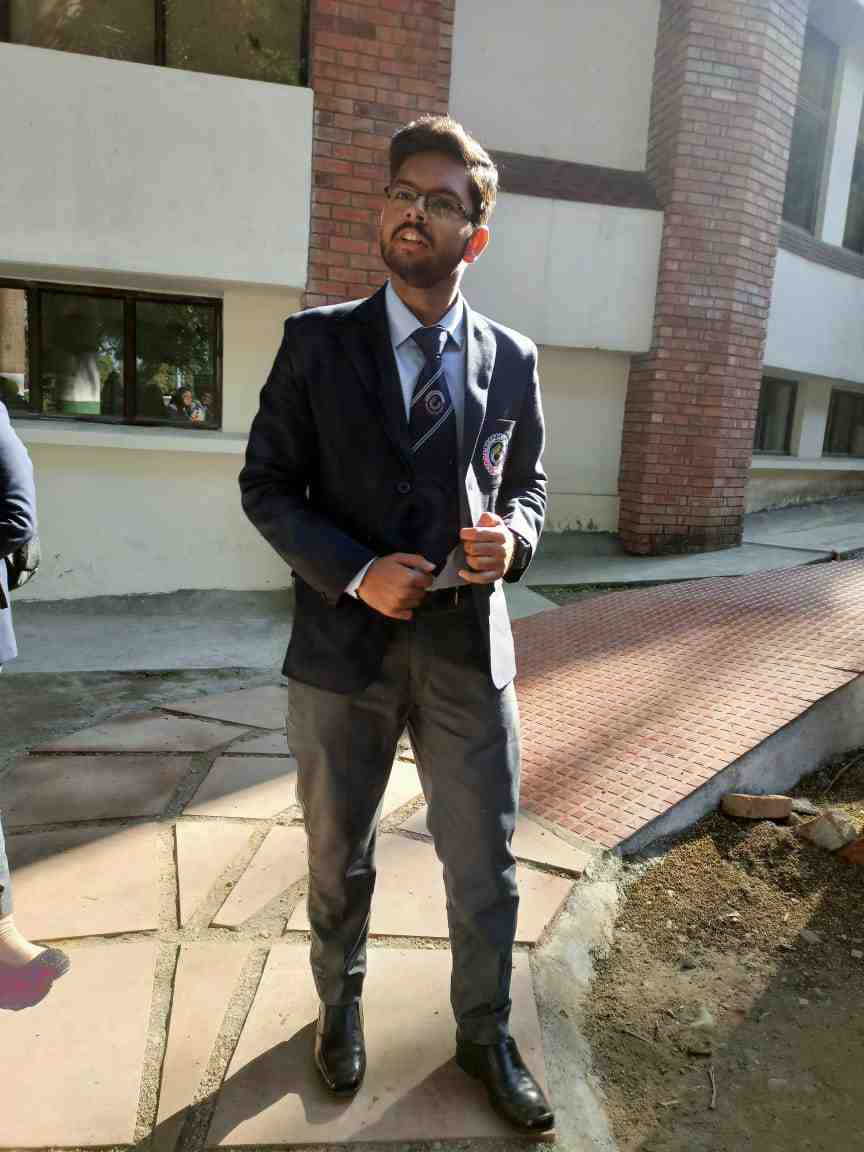blazer: (238, 276, 558, 704)
pant: (293, 605, 533, 1032)
tie: (402, 336, 474, 575)
